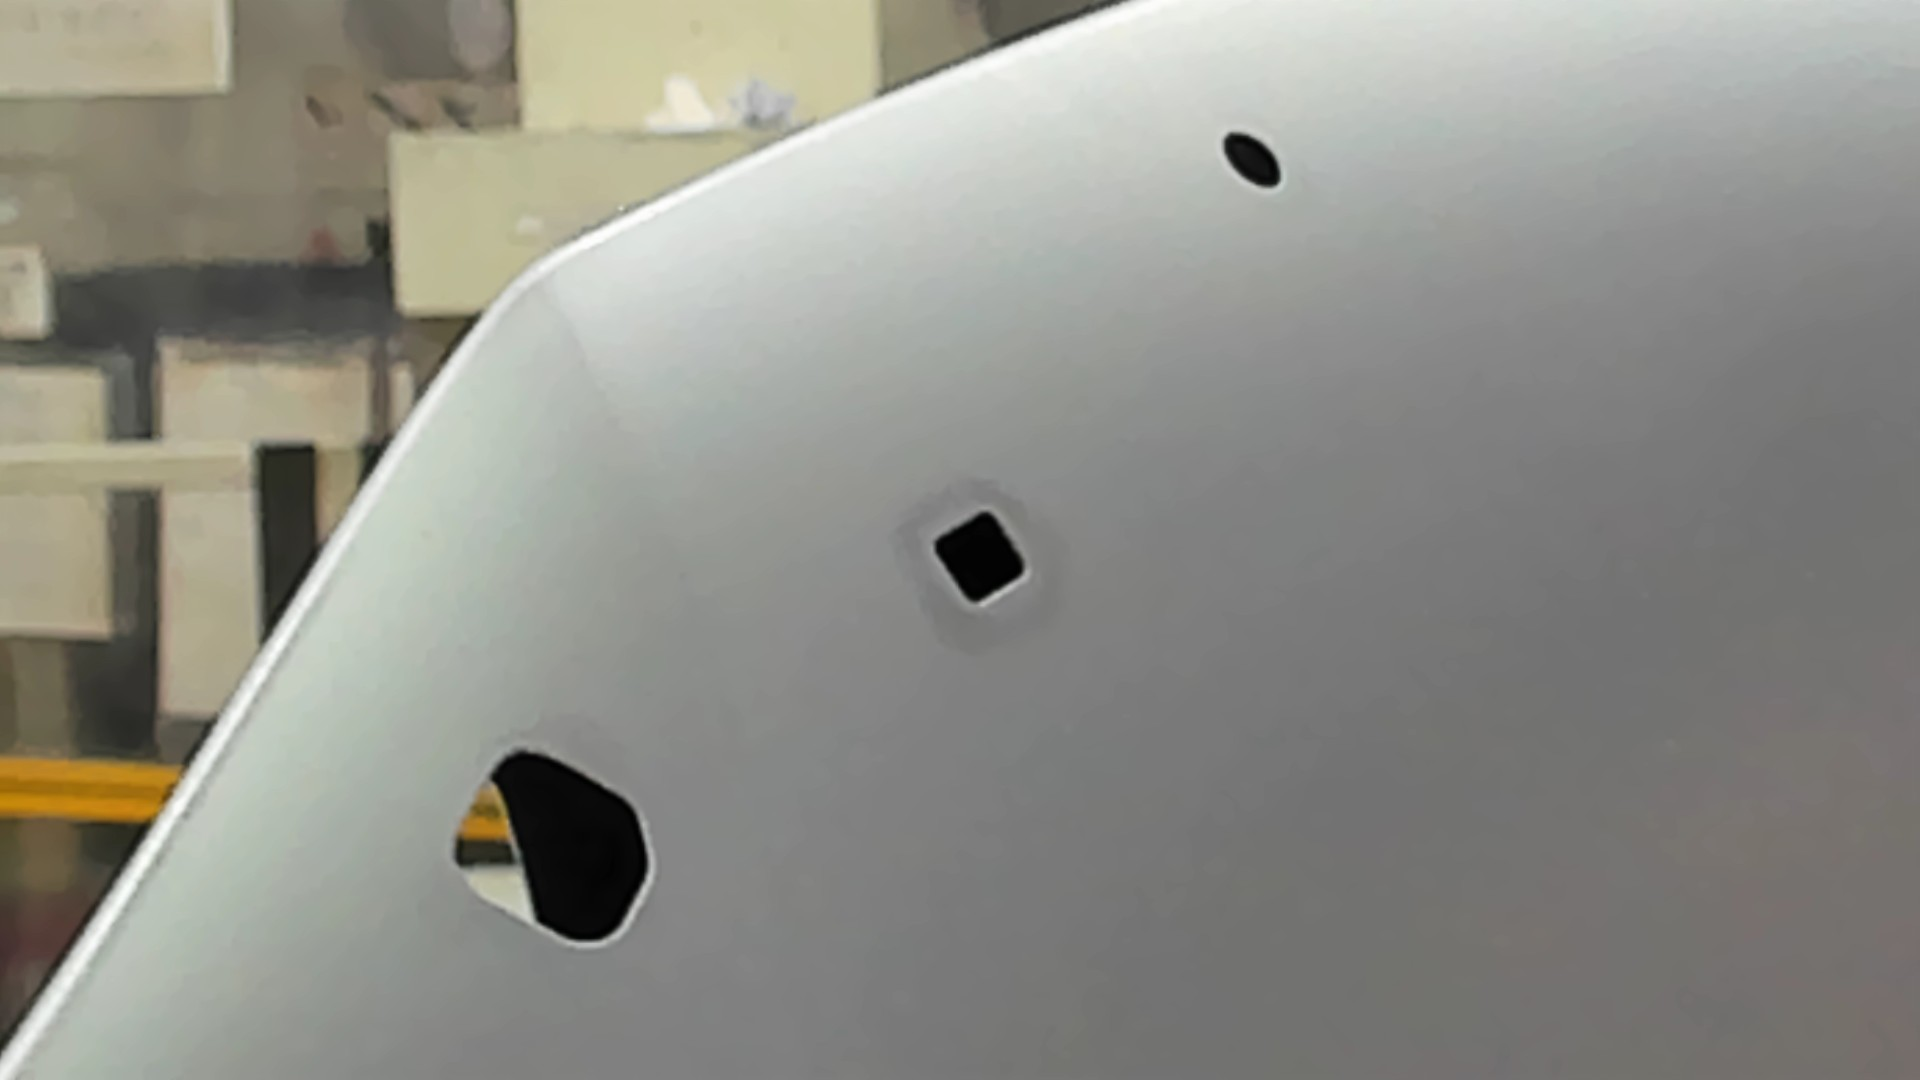chico: (1220, 128, 1283, 190)
grande: (451, 742, 662, 949)
mediano: (928, 506, 1033, 612)
